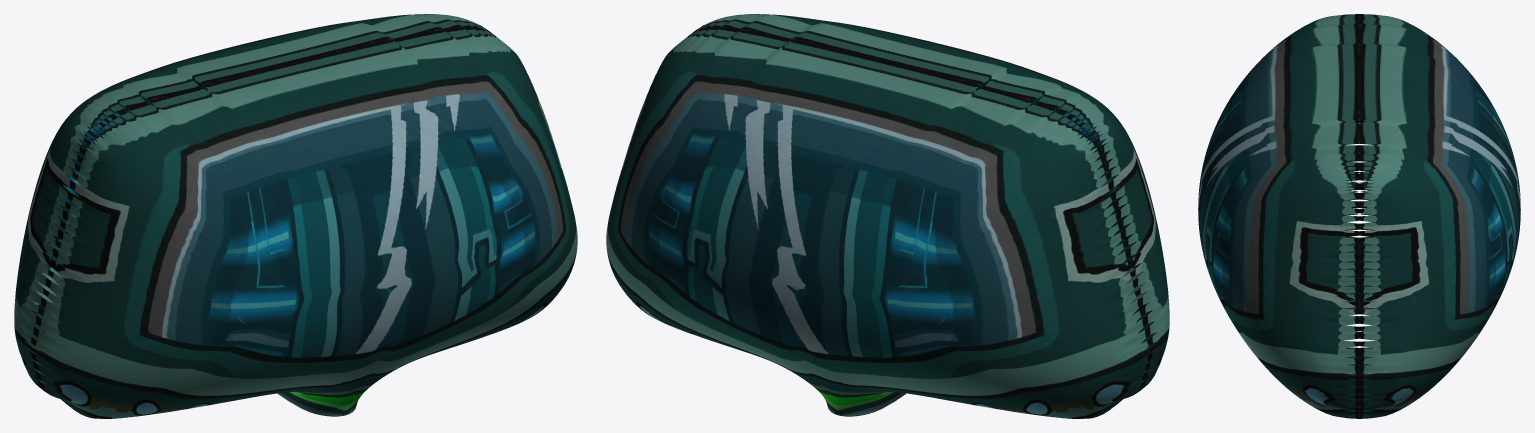
File: glass_console.glb
3 views of the same model, side by side, from view 1: azimuth 30°, elevation 25°; view 2: azimuth 150°, elevation 25°; view 3: azimuth 270°, elevation 25° (orthographic). The views are drawn at different scales.
Parts seen in each view (by area): view 1: glass_console; view 2: glass_console; view 3: glass_console.
Part boxes in pixels (x1,y1,x2,y2): glass_console: [14, 14, 577, 418]; glass_console: [606, 14, 1169, 418]; glass_console: [1198, 14, 1520, 418].
Bounding box in the file's own units: 0.9886 × 0.5671 × 0.6199.
Materials: 1 (1 with a texture image).
